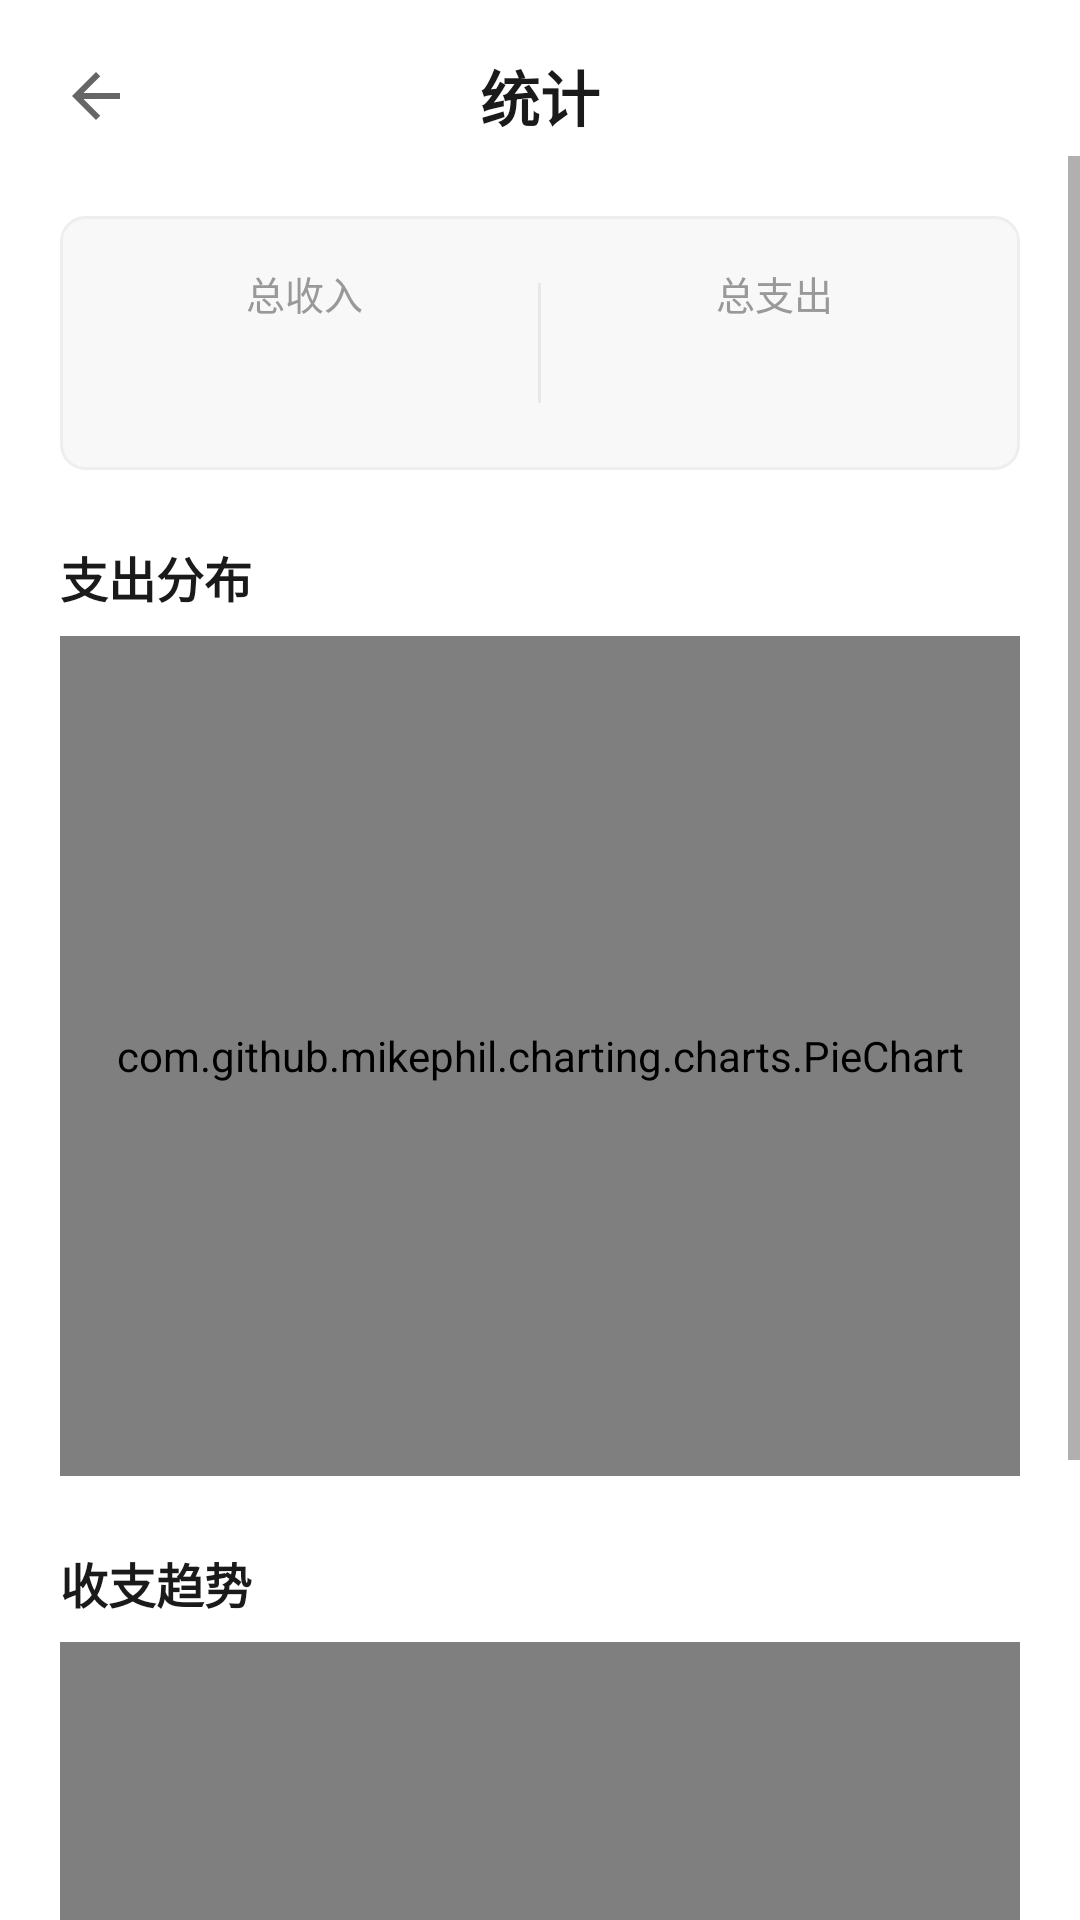

Icon bounding boxes for this 1080x1920 phone screenshot, format (x1, y1, x2, y2):
返回: (72, 72, 120, 120)
